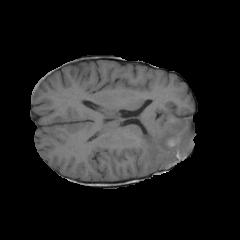glioma: (130, 113, 196, 169)
